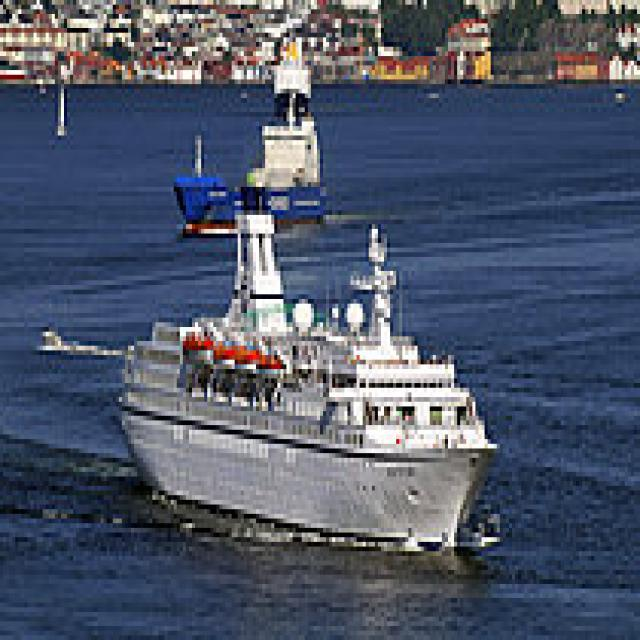Ship: (101, 193, 507, 562)
